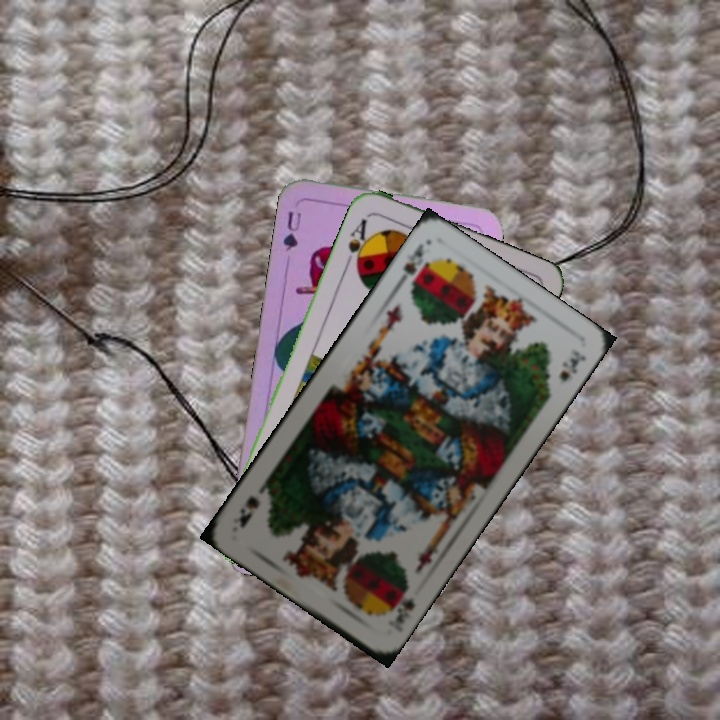GU: (279, 206, 304, 254)
SA: (341, 214, 375, 272)
SK: (391, 239, 431, 290), (385, 593, 418, 625)
